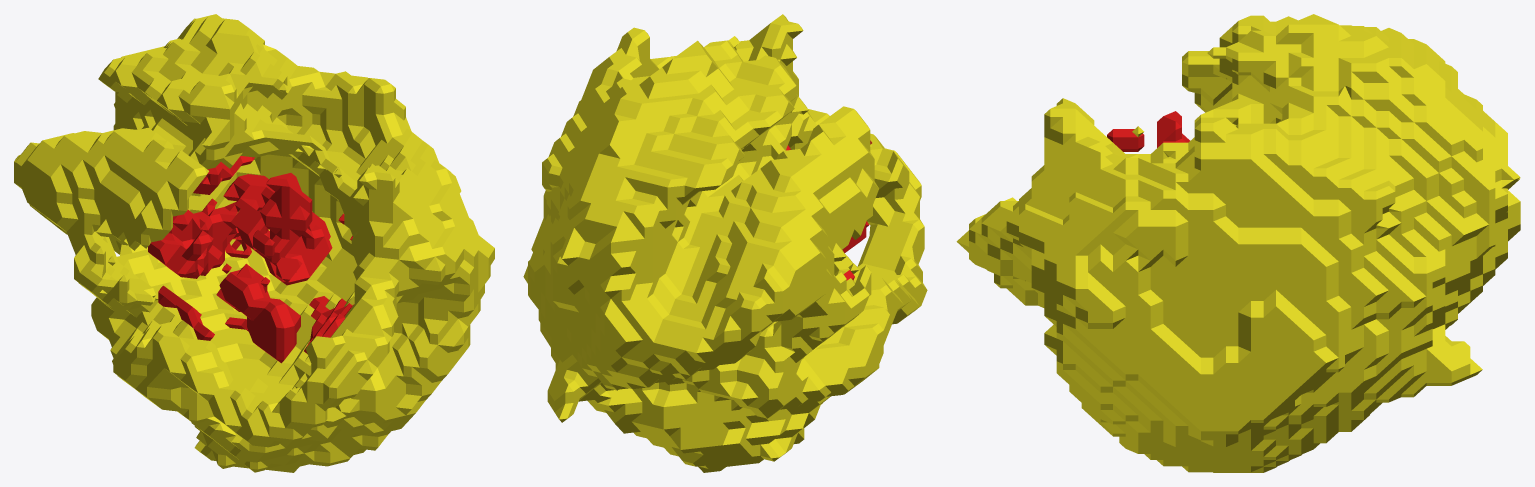
Rendered from tumor_mesh.obj.
The picture shows the model from 3 angles, left to right: view 1: azimuth 30°, elevation 25°; view 2: azimuth 150°, elevation 25°; view 3: azimuth 270°, elevation 25°; orthographic projection. The views are drawn at different scales.
Visible parts, largest first — view 1: edema, necrotic; view 2: edema; view 3: edema, necrotic.
Boxes of the visible parts, bbox=[...] form: edema: bbox=[14, 14, 494, 472]; necrotic: bbox=[148, 156, 353, 363]; edema: bbox=[523, 14, 927, 472]; edema: bbox=[956, 14, 1520, 472]; necrotic: bbox=[1107, 111, 1189, 151].
Bounding box in the file's own units: 30 × 39 × 45.
